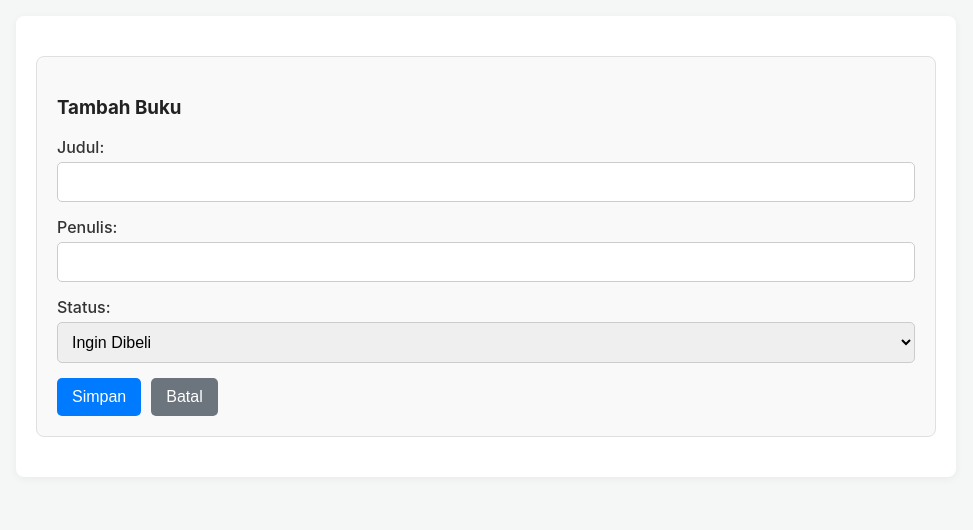
Scenario: BookForm › 4. shows error message on empty submit
What coordinates should you click on to do the following:
click the button "Simpan"
I would click on:
 (99, 397)
Its box is [57, 378, 141, 416].
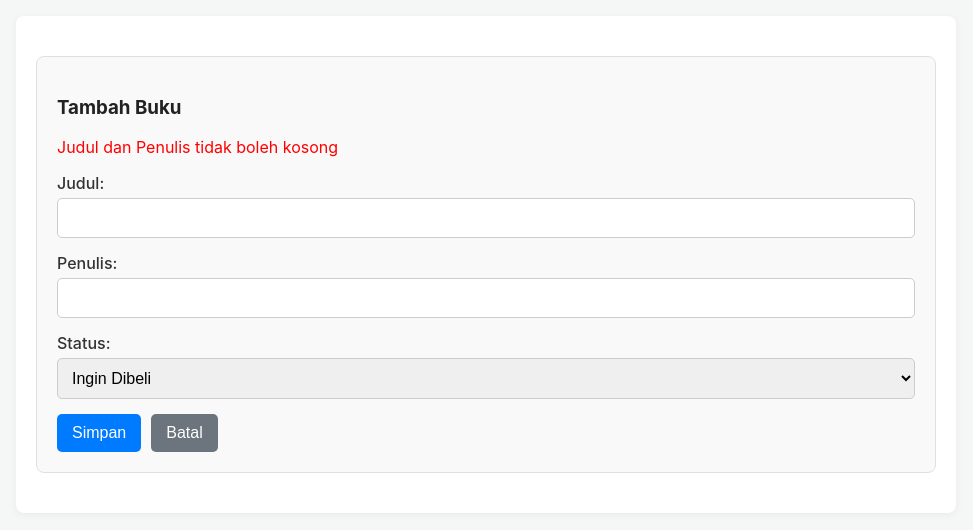
Result: the text "Judul dan Penulis tidak boleh kosong" is shown at [57, 137, 338, 157]
